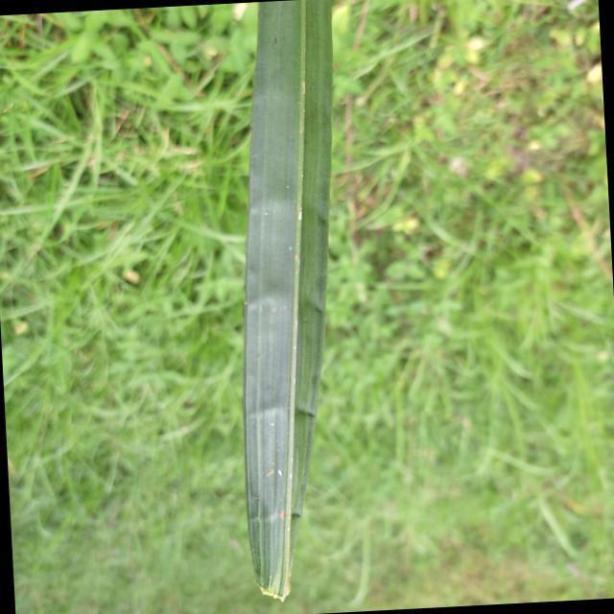Boron: (248, 0, 337, 614)
